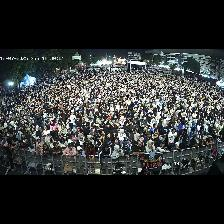person: (99, 145, 112, 169), (146, 140, 156, 160), (159, 122, 168, 141), (63, 144, 76, 157), (132, 141, 144, 155), (112, 145, 124, 159), (86, 143, 95, 161), (168, 129, 176, 149), (144, 132, 153, 148), (155, 140, 167, 152), (95, 135, 103, 152), (52, 142, 62, 155), (56, 131, 66, 143), (130, 120, 139, 133), (43, 143, 52, 156), (122, 143, 130, 157), (179, 120, 187, 134), (189, 127, 196, 143), (173, 136, 181, 150), (112, 138, 121, 150), (132, 134, 141, 146), (118, 129, 125, 144), (59, 138, 67, 151), (125, 137, 132, 151), (28, 141, 35, 155), (189, 135, 197, 147), (180, 136, 188, 148), (36, 137, 44, 149), (104, 133, 112, 145), (19, 141, 28, 151), (130, 129, 137, 141), (174, 119, 180, 133), (71, 138, 79, 148), (46, 134, 52, 146), (78, 133, 84, 145), (14, 141, 20, 153), (59, 125, 67, 134), (99, 130, 105, 141), (187, 124, 192, 137), (172, 112, 177, 125), (212, 136, 220, 144), (77, 147, 85, 155), (36, 147, 43, 156), (43, 126, 50, 134), (205, 137, 212, 145), (21, 134, 27, 143), (88, 135, 94, 144), (139, 168, 148, 174), (10, 140, 15, 150), (50, 137, 54, 149), (67, 134, 72, 143), (41, 133, 45, 142)
